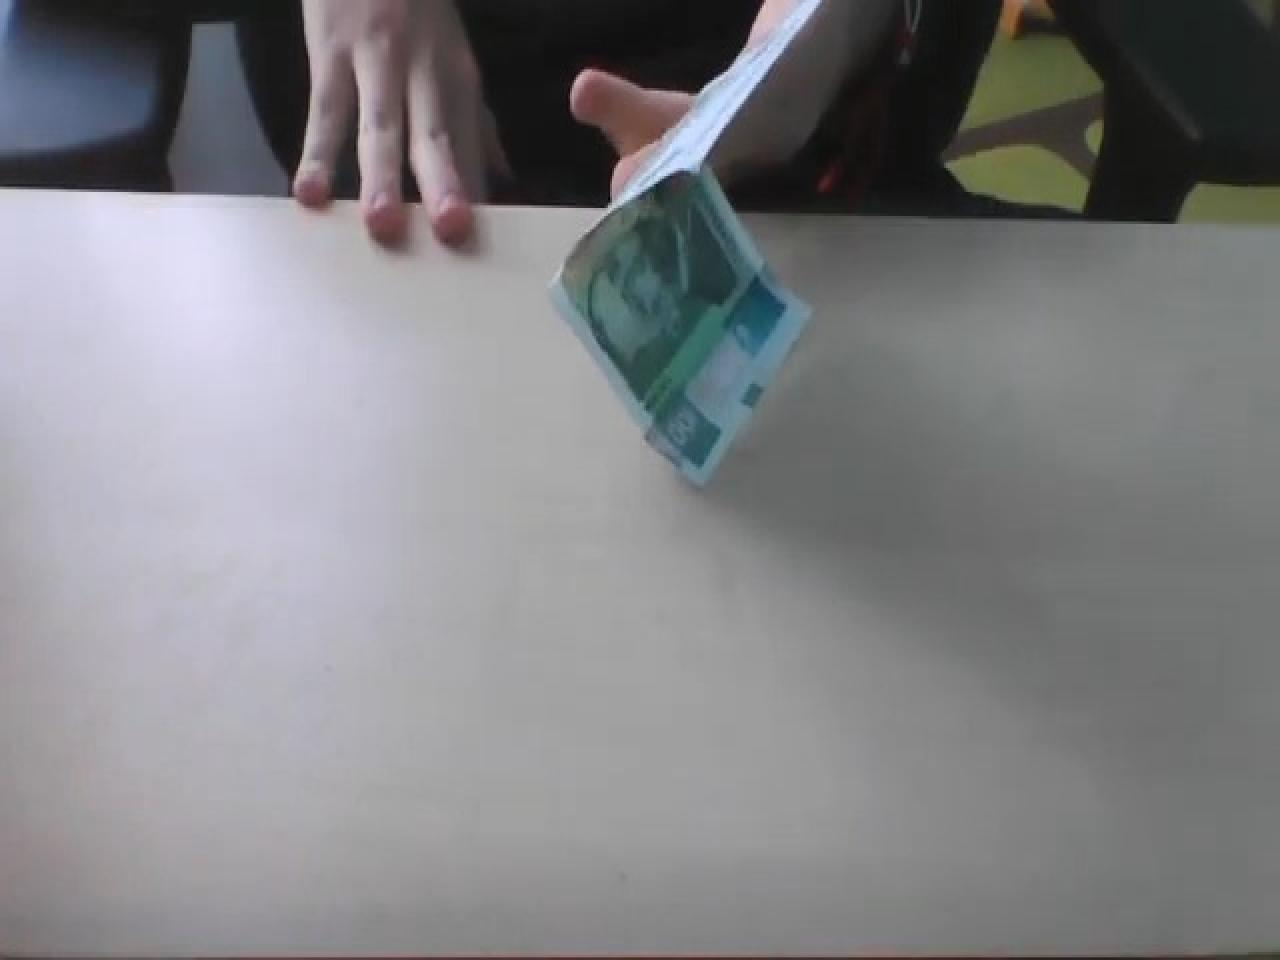100leva: (548, 160, 812, 491)
